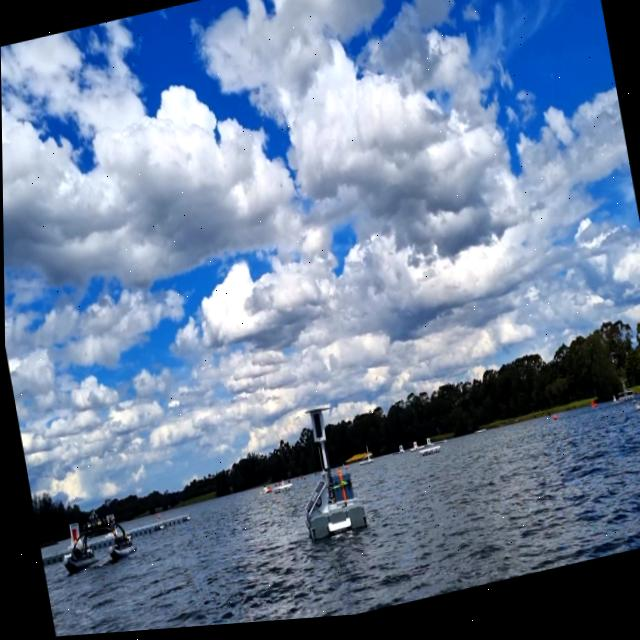led: (310, 415, 323, 445)
